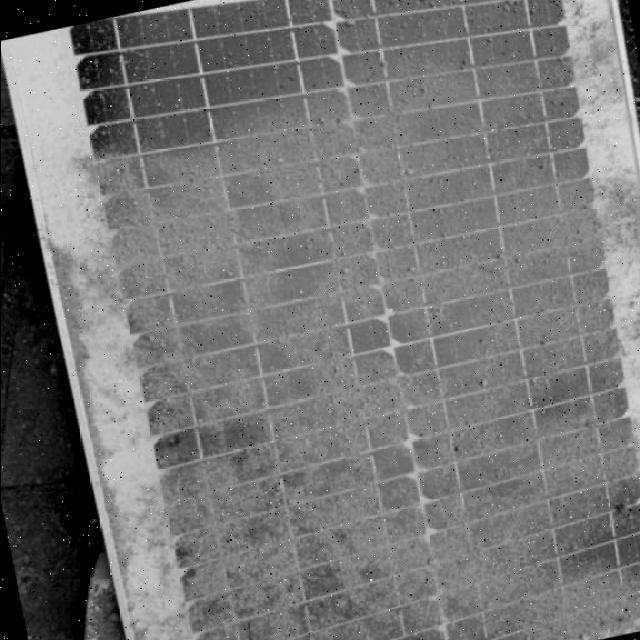Anomaly Solar Panel: (28, 0, 640, 640)
Surface Contaminant: (43, 0, 640, 640)
